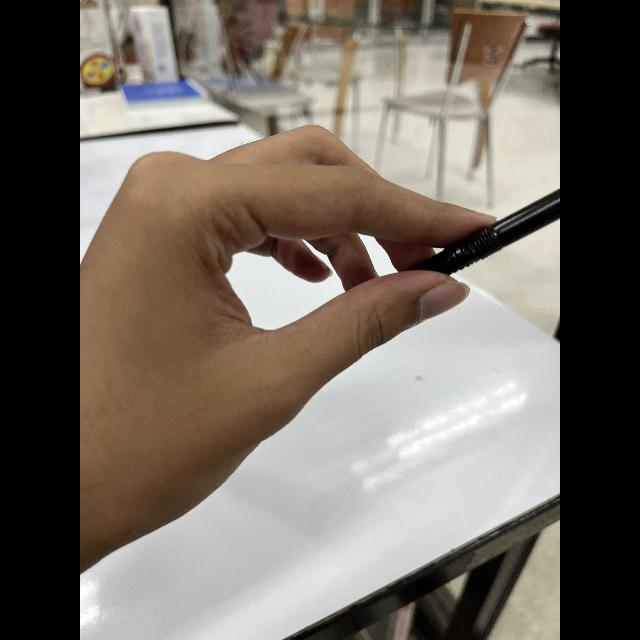straw: (414, 183, 560, 273)
